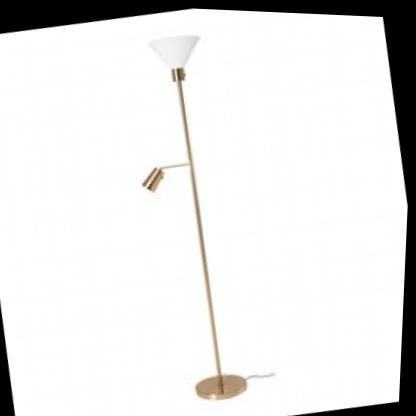Lamp: (109, 16, 268, 390)
